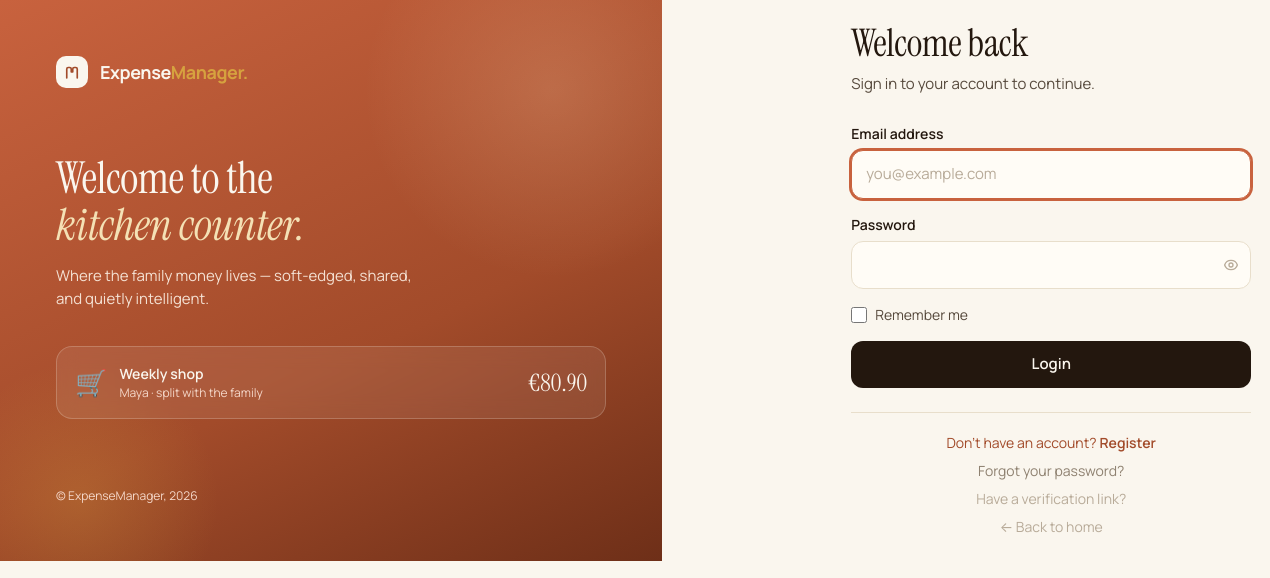
Test: Login page › disables button and shows spinner while submitting
Type "user@example.com" into the field labelled "Email address" at (1051, 175), box 851,150 -> 1251,199
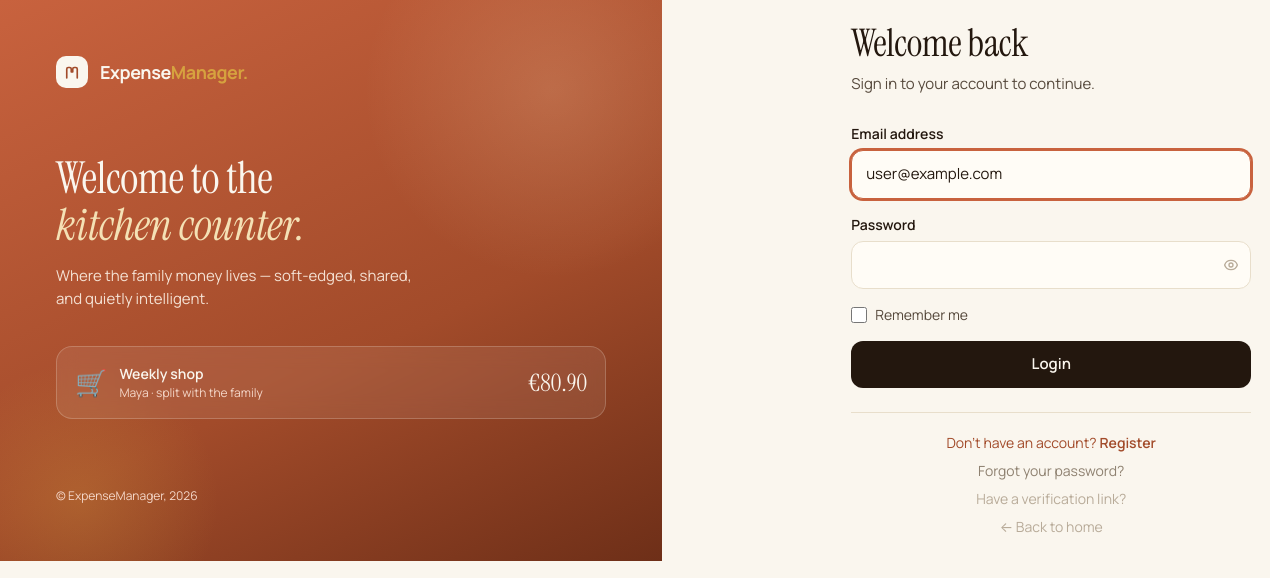
Type "secret" into the password field labelled "Password" at (1051, 265), box 851,241 -> 1251,289
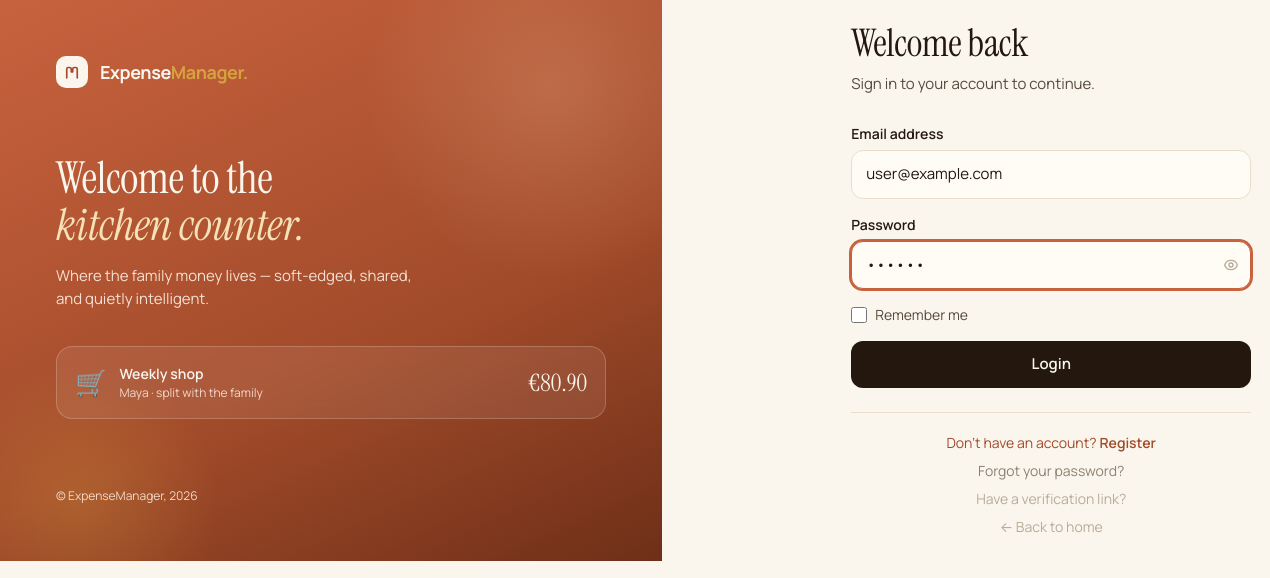
Click the button "Login" at (1051, 365), box 851,341 -> 1251,388
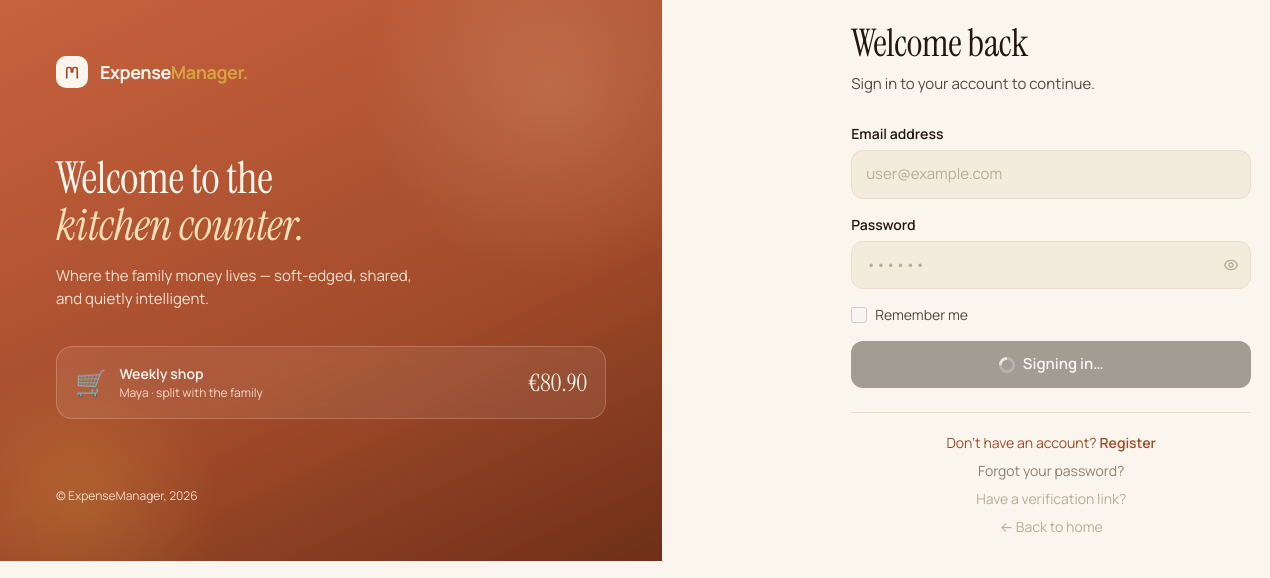
Check: the text "Signing in…" is shown, box 999,353 -> 1104,376
Check: the button "Signing in…" is disabled, box 851,341 -> 1251,388
